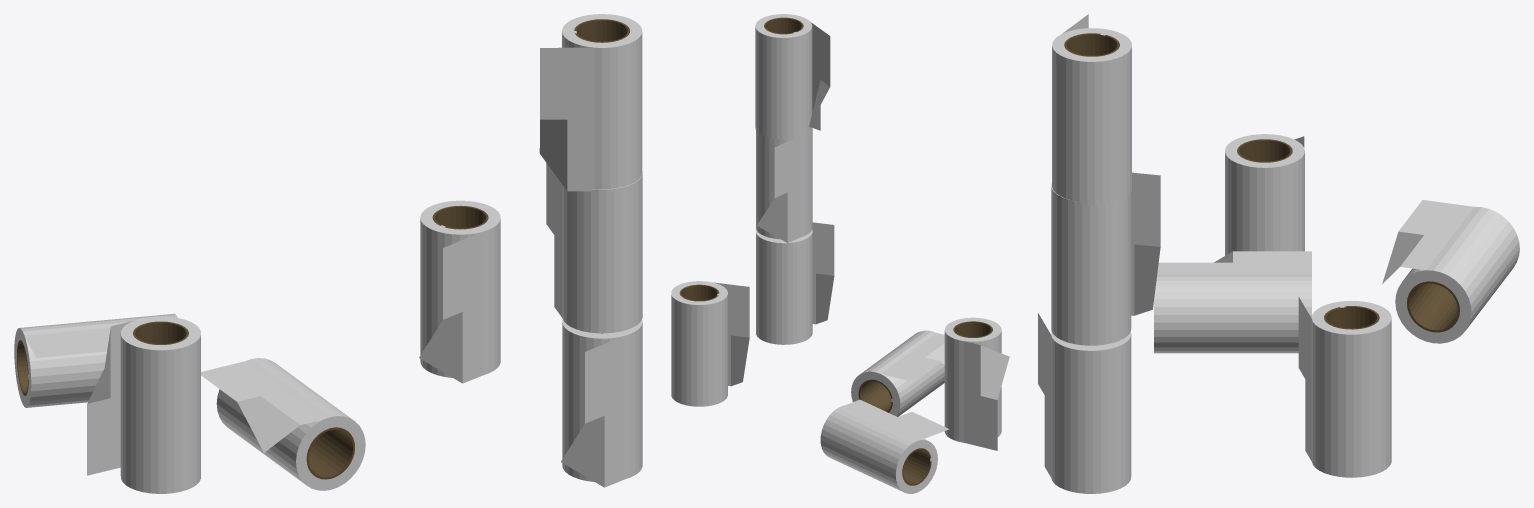
The model's file is TOILET_PAPER.glb.
3 views of the same model, side by side, from view 1: azimuth 30°, elevation 25°; view 2: azimuth 150°, elevation 25°; view 3: azimuth 270°, elevation 25° (orthographic). The views are drawn at different scales.
Visible parts, largest first — view 1: Cylinder.007; view 2: Cylinder.007; view 3: Cylinder.007.
Part boxes in pixels (x1,y1,x2,y2): Cylinder.007: (14,14,642,493); Cylinder.007: (671,14,1009,493); Cylinder.007: (1038,14,1519,493).
Size of the model in its own units: 0.6527 by 0.6106 by 0.6171.
